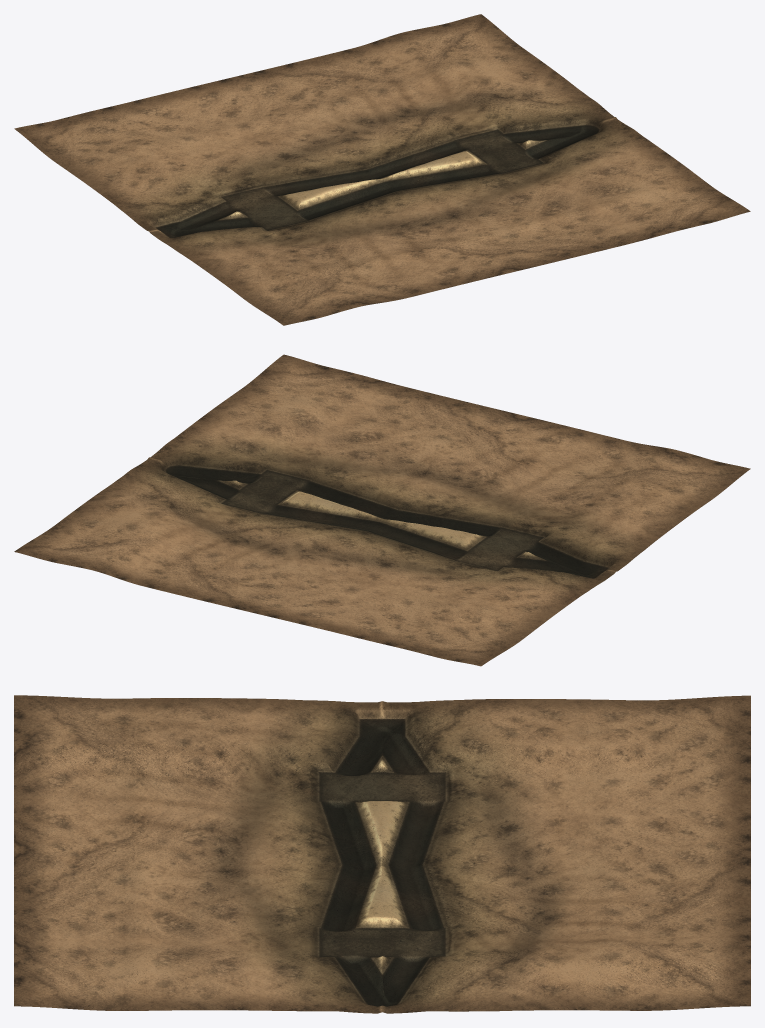
Rendered from twin-banks-terrain.glb.
3 views of the same model, one above another, from view 1: azimuth 30°, elevation 25°; view 2: azimuth 150°, elevation 25°; view 3: azimuth 270°, elevation 25° (orthographic). The views are drawn at different scales.
Visible parts, largest first — view 1: TwinBanksTerrain; view 2: TwinBanksTerrain; view 3: TwinBanksTerrain.
Part boxes in pixels (x1,y1,x2,y2): TwinBanksTerrain: [14, 14, 750, 325]; TwinBanksTerrain: [14, 354, 750, 666]; TwinBanksTerrain: [14, 695, 750, 1013].
Bounding box in the file's own units: 64 × 2.42 × 64.
Materials: 1 (1 with a texture image).
